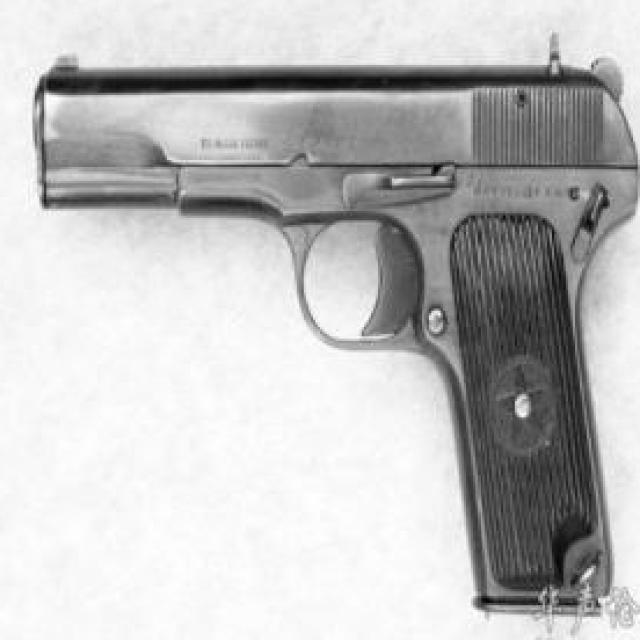pistol: (30, 28, 639, 618)
